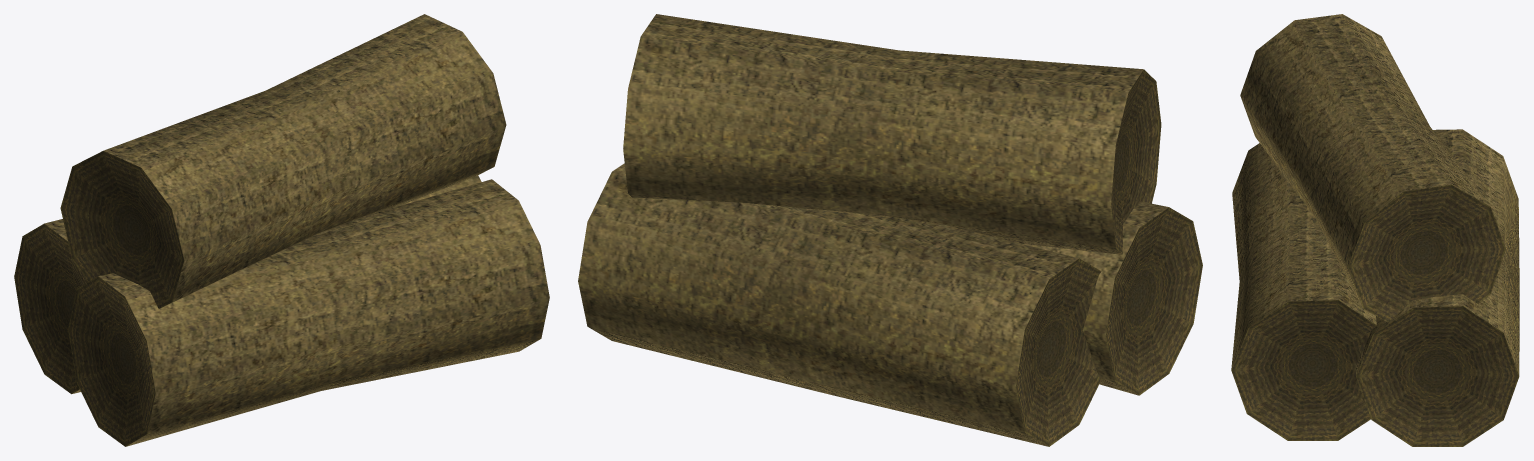
The model's file is thing_hake_roll03.glb.
3 views of the same model, side by side, from view 1: azimuth 30°, elevation 25°; view 2: azimuth 150°, elevation 25°; view 3: azimuth 270°, elevation 25° (orthographic). The views are drawn at different scales.
Visible parts, largest first — view 1: thing_hake_roll03; view 2: thing_hake_roll03; view 3: thing_hake_roll03.
Part boxes in pixels (left/top/right/bottom): thing_hake_roll03: left=14, top=14, right=549, bottom=446; thing_hake_roll03: left=578, top=14, right=1202, bottom=446; thing_hake_roll03: left=1231, top=14, right=1519, bottom=446.
Bounding box in the file's own units: 3.64 × 2.28 × 2.34.
Materials: 1 (1 with a texture image).
